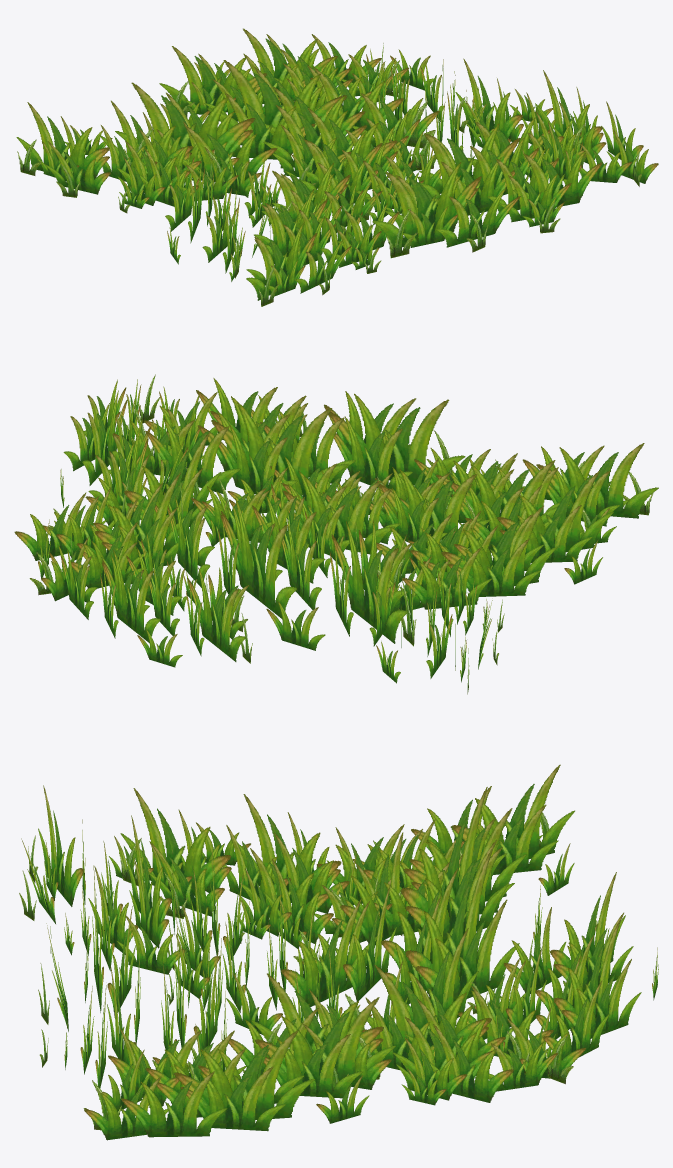
File: obj_macoprgr07.glb
3 views of the same model, one above another, from view 1: azimuth 30°, elevation 25°; view 2: azimuth 150°, elevation 25°; view 3: azimuth 270°, elevation 25° (orthographic). The views are drawn at different scales.
Visible parts, largest first — view 1: part_0; view 2: part_0; view 3: part_0.
Part boxes in pixels (left/top/right/bottom): part_0: left=16, top=28, right=658, bottom=306; part_0: left=14, top=374, right=658, bottom=694; part_0: left=19, top=764, right=658, bottom=1140.
Size of the model in its own units: 4.49 by 1.12 by 4.09.
Materials: 2 (2 with a texture image).
